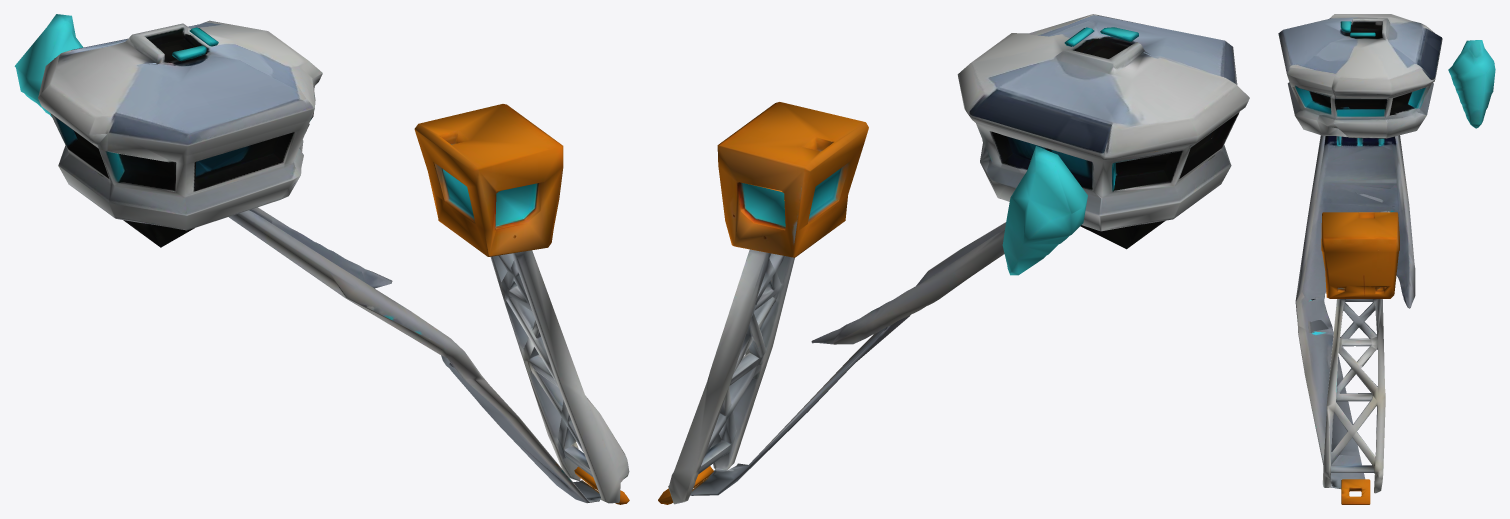
Rendered from finish-tower-low.glb.
3 renders of one model, left to right at view 1: azimuth 30°, elevation 25°; view 2: azimuth 150°, elevation 25°; view 3: azimuth 270°, elevation 25°, orthographic. The views are drawn at different scales.
Visible parts, largest first — view 1: finish-tower; view 2: finish-tower; view 3: finish-tower.
Boxes of the visible parts, x1,y1,x2,y2 form: finish-tower: (14,14,629,504); finish-tower: (658,14,1249,504); finish-tower: (1278,14,1495,504).
Bounding box in the file's own units: 1 × 0.9648 × 0.546.
Materials: 1 (1 with a texture image).
